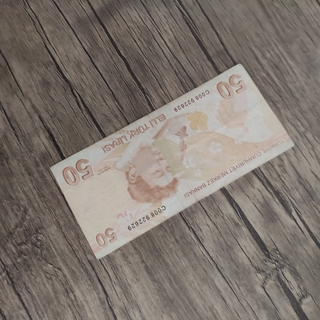50TLBack: (49, 63, 295, 259)
